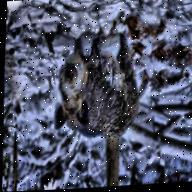boar: (41, 12, 167, 158)
